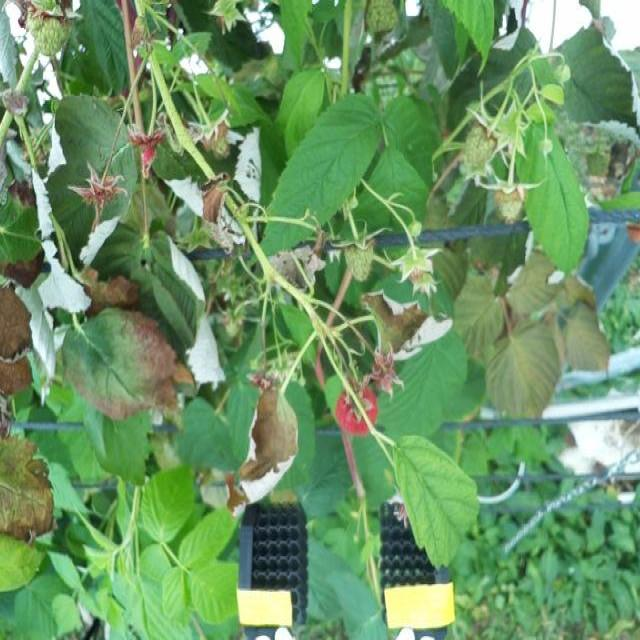Riped berries: (332, 379, 380, 437)
